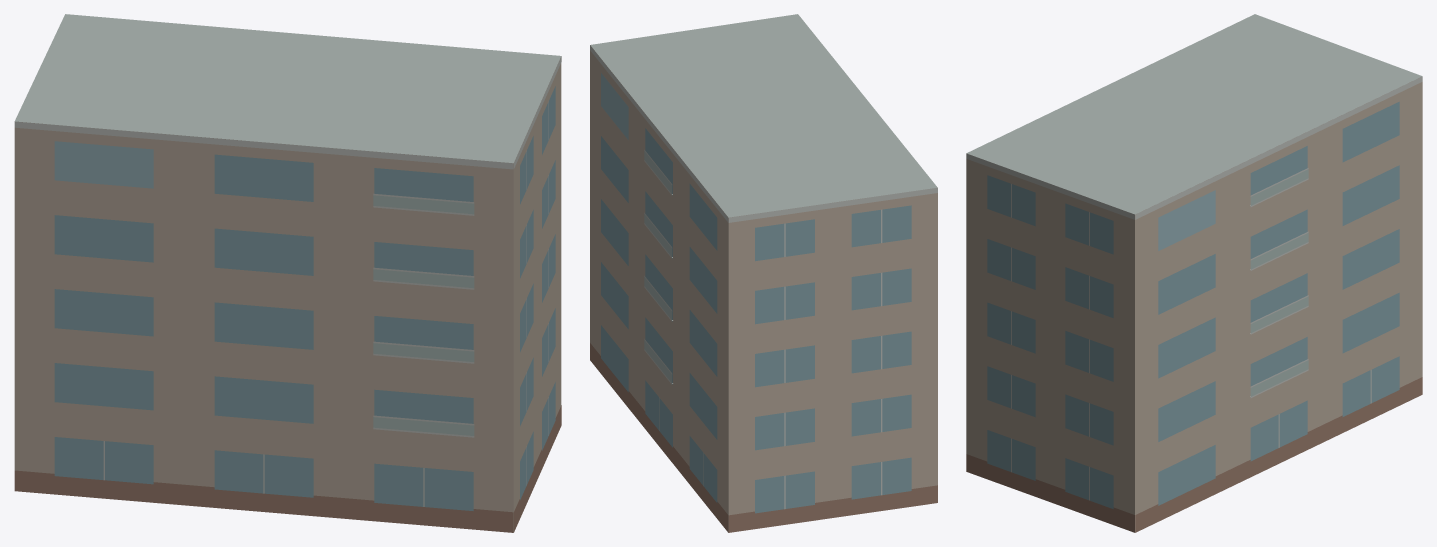
Rendered from survey-upis-32938628.glb.
3 renders of one model, left to right at view 1: azimuth 30°, elevation 25°; view 2: azimuth 150°, elevation 25°; view 3: azimuth 270°, elevation 25°, orthographic. The views are drawn at different scales.
Visible parts, largest first — view 1: survey-upis-32938628.tmp; view 2: survey-upis-32938628.tmp; view 3: survey-upis-32938628.tmp.
Boxes of the visible parts, x1,y1,x2,y2 form: survey-upis-32938628.tmp: (14, 14, 561, 532); survey-upis-32938628.tmp: (590, 14, 937, 532); survey-upis-32938628.tmp: (966, 14, 1422, 532).
Bounding box in the file's own units: 19.47 × 14.4 × 18.72.
